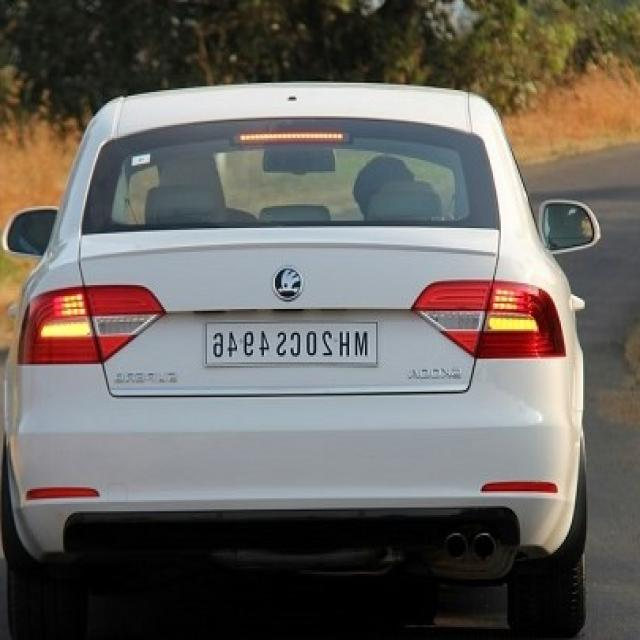number-plate: (198, 315, 380, 361)
